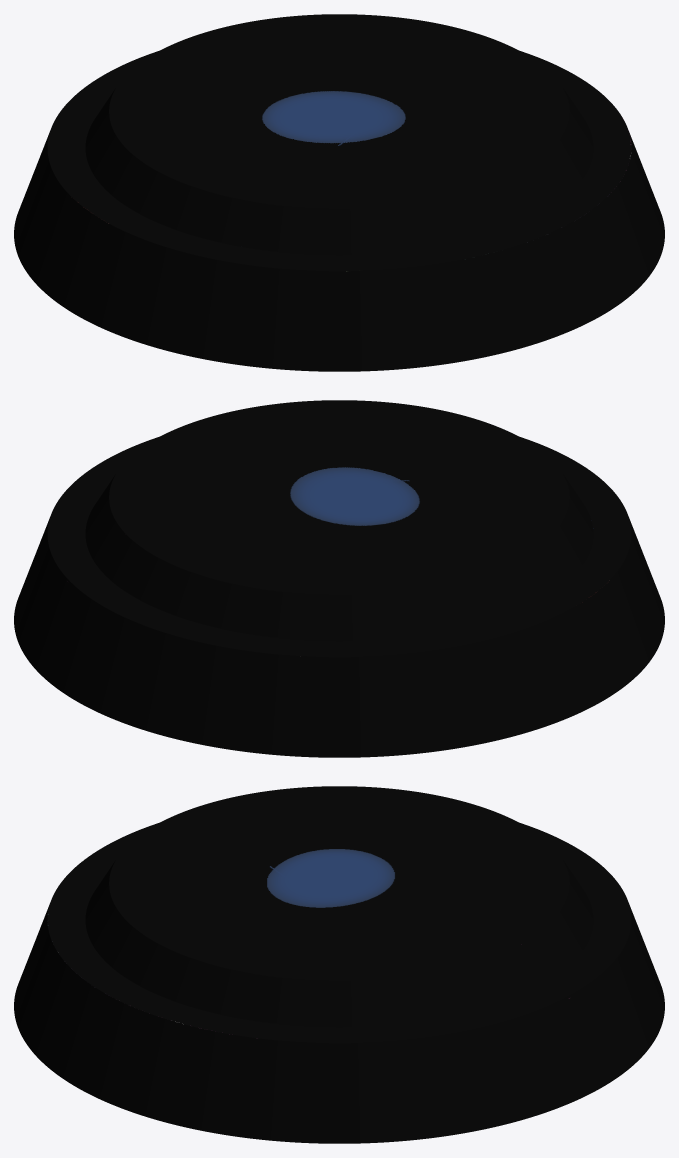
Rendered from TotomiStand.fbx.
3 views of the same model, one above another, from view 1: azimuth 30°, elevation 25°; view 2: azimuth 150°, elevation 25°; view 3: azimuth 270°, elevation 25° (orthographic).
Visible parts, largest first — view 1: Display Podium; view 2: Display Podium; view 3: Display Podium.
Part boxes in pixels (x1,y1,x2,y2): Display Podium: [14, 14, 664, 371]; Display Podium: [14, 400, 664, 757]; Display Podium: [14, 786, 664, 1143].
Bounding box in the file's own units: 736 × 153 × 736.
4 materials, 4 textured.
